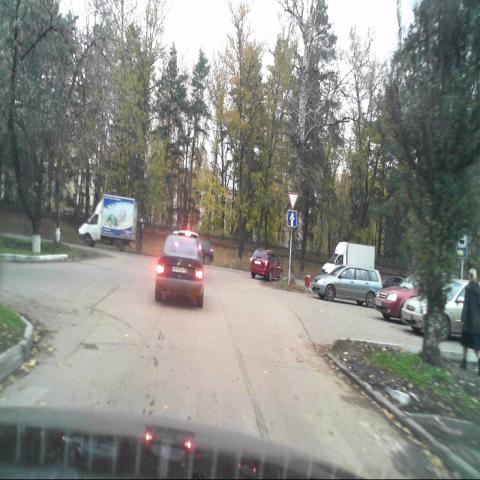5_18: (456, 224, 466, 258)
